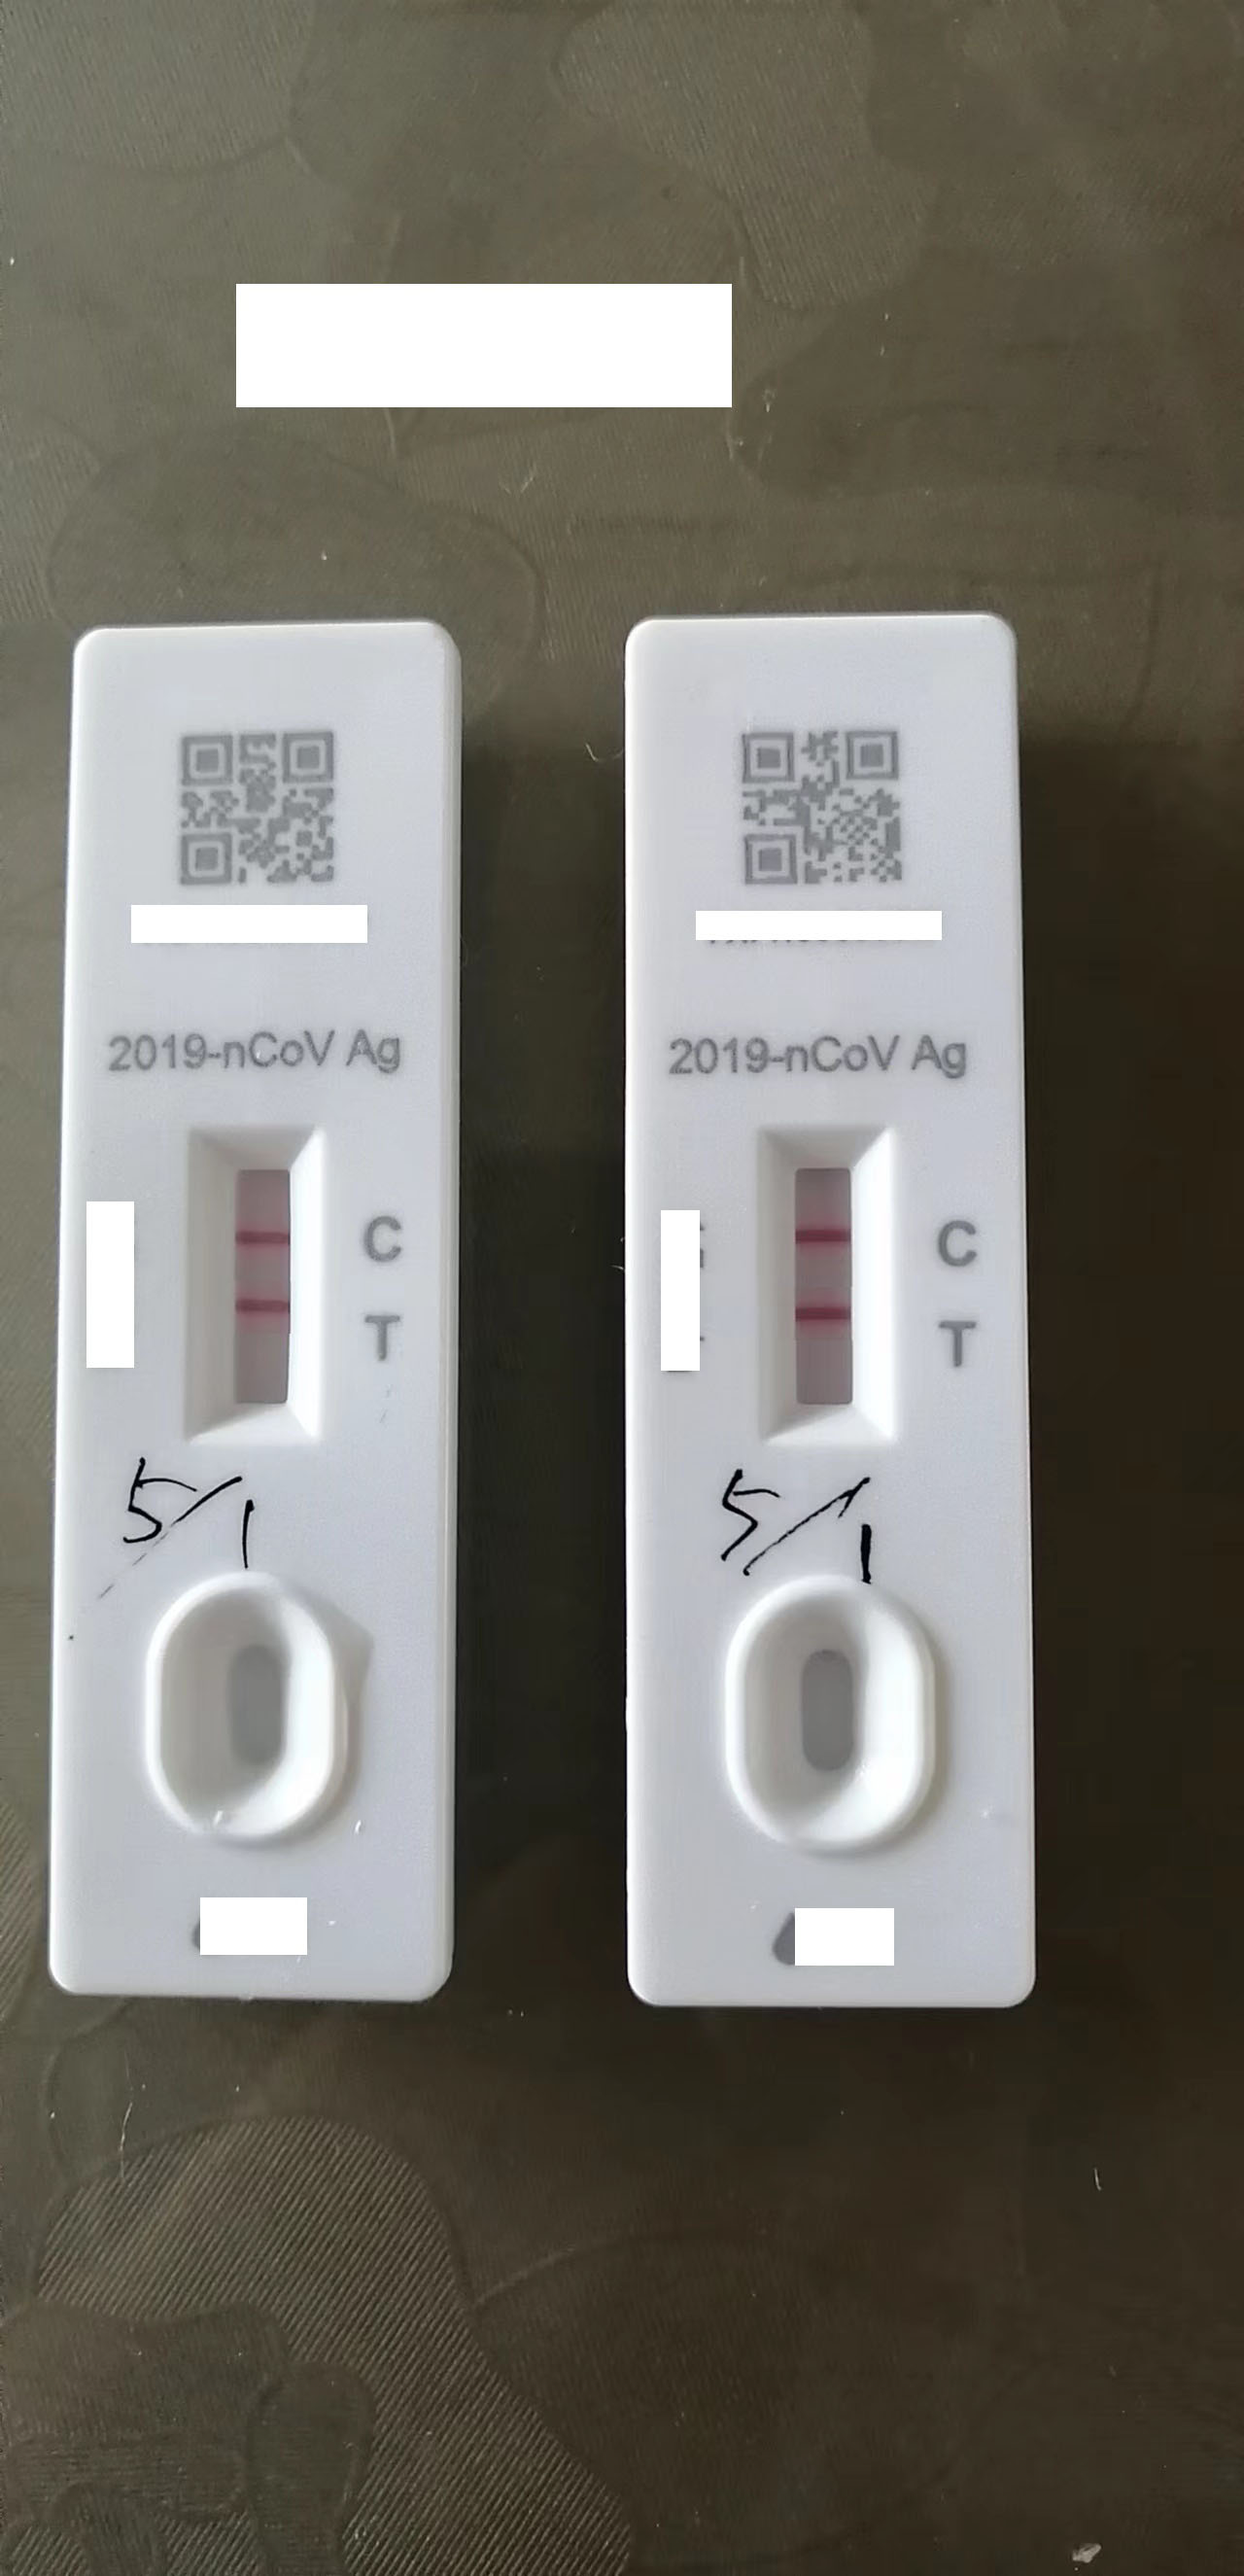positive: (763, 1130, 891, 1439), (184, 1130, 314, 1421)
